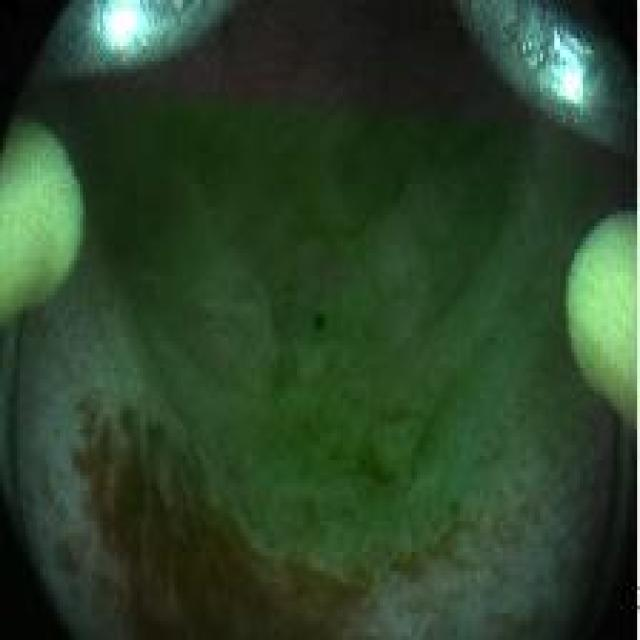color misalignment: (308, 307, 336, 338)
contrast: (66, 10, 528, 201)
instrument: (464, 5, 638, 164), (1, 115, 81, 337), (564, 201, 636, 438), (22, 10, 244, 72)
specularity: (95, 4, 159, 56), (547, 36, 581, 103)
